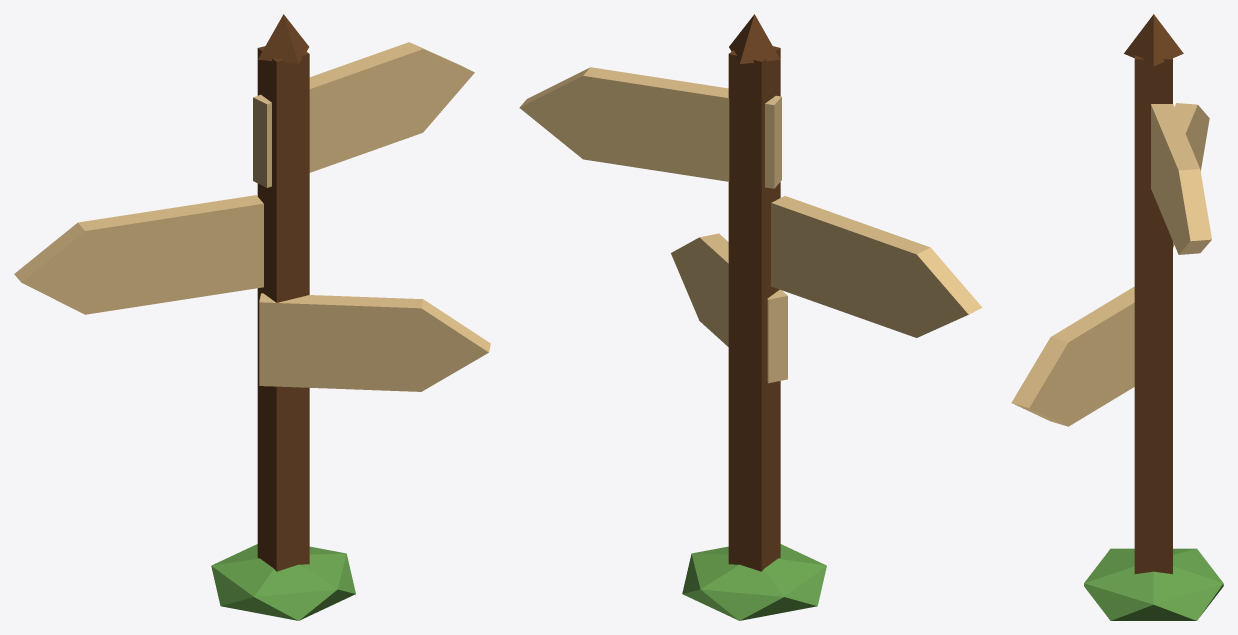
Rendered from signpost.glb.
3 views of the same model, side by side, from view 1: azimuth 30°, elevation 25°; view 2: azimuth 150°, elevation 25°; view 3: azimuth 270°, elevation 25° (orthographic).
Parts seen in each view (by area): view 1: signpost; view 2: signpost; view 3: signpost.
Part boxes in pixels (x1,y1,x2,y2): signpost: (14, 14, 490, 620); signpost: (519, 14, 982, 620); signpost: (1011, 14, 1223, 620).
Bounding box in the file's own units: 1.93 × 2.4 × 0.7755.
